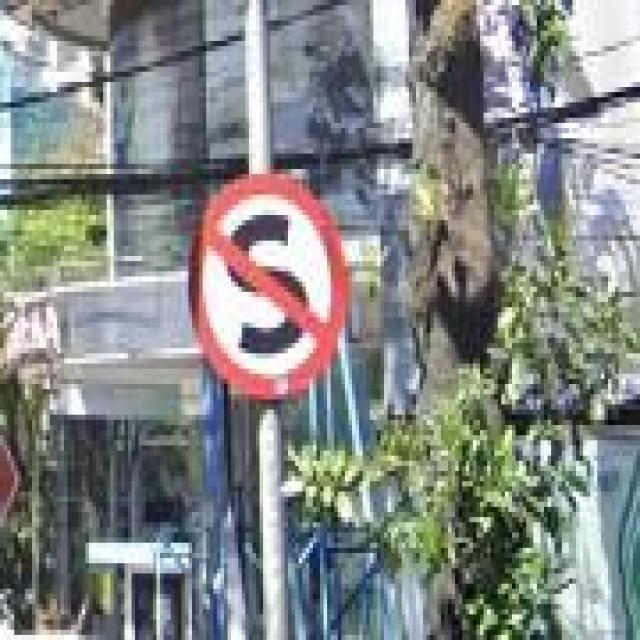traffic sign: (192, 174, 348, 400)
